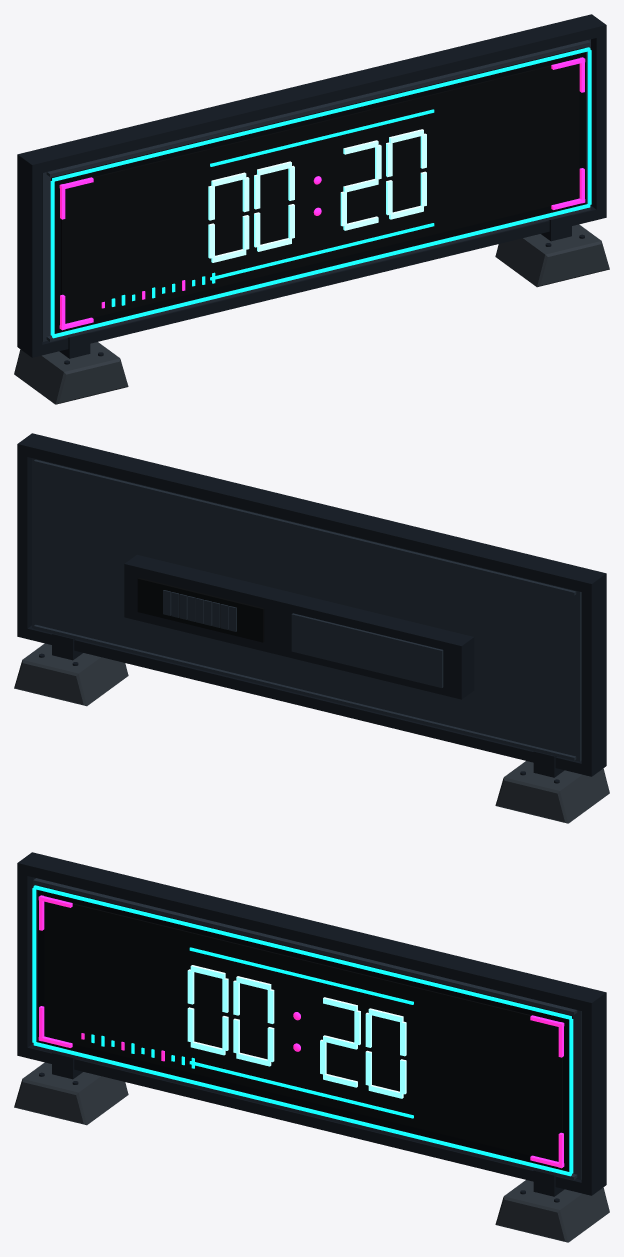
The model's file is A001-01-巨型倒计时屏.glb.
3 renders of one model, top to bottom at view 1: azimuth 30°, elevation 25°; view 2: azimuth 150°, elevation 25°; view 3: azimuth 330°, elevation 25°, orthographic.
Visible parts, largest first — view 1: Countdown_InnerBlackMask, Countdown_FrameTop, Countdown_SmokedDisplayGlass, Countdown_FrameBottom, Countdown_LeftLowPlinth, Countdown_FrameLeft, Countdown_RightLowPlinth, Countdown_FrameTopInset, Countdown_BackShell, Countdown_FrameRight, Countdown_CyanTop, Countdown_CyanBottom (+7 smaller); view 2: Countdown_BackShell, Countdown_FrameTop, Countdown_RearCabinet, Countdown_FrameBottom, Countdown_RearServiceDoor, Countdown_LeftLowPlinth, Countdown_FrameLeft, Countdown_RightLowPlinth, Countdown_FrameTopInset, Countdown_FrameBottomInset, Countdown_RearVentRecess, Countdown_FrameRight (+2 smaller); view 3: Countdown_InnerBlackMask, Countdown_FrameTop, Countdown_SmokedDisplayGlass, Countdown_FrameBottom, Countdown_RightLowPlinth, Countdown_FrameRight, Countdown_LeftLowPlinth, Countdown_FrameTopInset, Countdown_FrameLeft, Countdown_BackShell, Countdown_CyanTop, Countdown_CyanBottom (+7 smaller).
Part boxes in pixels (left/top/right/bottom): Countdown_InnerBlackMask: left=61, top=64, right=579, bottom=323; Countdown_FrameTop: left=17, top=14, right=606, bottom=175; Countdown_SmokedDisplayGlass: left=51, top=47, right=586, bottom=333; Countdown_FrameBottom: left=17, top=206, right=606, bottom=357; Countdown_LeftLowPlinth: left=14, top=342, right=128, bottom=404; Countdown_FrameLeft: left=17, top=165, right=42, bottom=347; Countdown_RightLowPlinth: left=495, top=224, right=609, bottom=287; Countdown_FrameTopInset: left=46, top=40, right=590, bottom=176; Countdown_BackShell: left=42, top=39, right=590, bottom=341; Countdown_FrameRight: left=591, top=35, right=606, bottom=209; Countdown_CyanTop: left=52, top=47, right=590, bottom=181; Countdown_CyanBottom: left=52, top=204, right=590, bottom=338; Countdown_BackShell: left=32, top=458, right=581, bottom=761; Countdown_FrameTop: left=17, top=433, right=606, bottom=594; Countdown_RearCabinet: left=124, top=554, right=474, bottom=699; Countdown_FrameBottom: left=17, top=625, right=606, bottom=776; Countdown_RearServiceDoor: left=291, top=613, right=443, bottom=687; Countdown_LeftLowPlinth: left=495, top=761, right=609, bottom=823; Countdown_FrameLeft: left=581, top=583, right=606, bottom=766; Countdown_RightLowPlinth: left=14, top=643, right=128, bottom=706; Countdown_FrameTopInset: left=33, top=459, right=576, bottom=595; Countdown_FrameBottomInset: left=33, top=624, right=576, bottom=760; Countdown_RearVentRecess: left=137, top=577, right=264, bottom=642; Countdown_FrameRight: left=17, top=454, right=31, bottom=628; Countdown_InnerBlackMask: left=44, top=902, right=562, bottom=1161; Countdown_FrameTop: left=17, top=852, right=606, bottom=1013; Countdown_SmokedDisplayGlass: left=37, top=885, right=572, bottom=1171; Countdown_FrameBottom: left=17, top=1044, right=606, bottom=1195; Countdown_RightLowPlinth: left=495, top=1180, right=609, bottom=1242; Countdown_FrameRight: left=581, top=1002, right=606, bottom=1185; Countdown_LeftLowPlinth: left=14, top=1062, right=128, bottom=1125; Countdown_FrameTopInset: left=33, top=878, right=577, bottom=1014; Countdown_FrameLeft: left=17, top=873, right=32, bottom=1047; Countdown_BackShell: left=33, top=877, right=581, bottom=1179; Countdown_CyanTop: left=33, top=885, right=571, bottom=1019; Countdown_CyanBottom: left=33, top=1042, right=571, bottom=1176.
Size of what is drawn, in the model's own units: 12.6 by 4.87 by 1.66.
